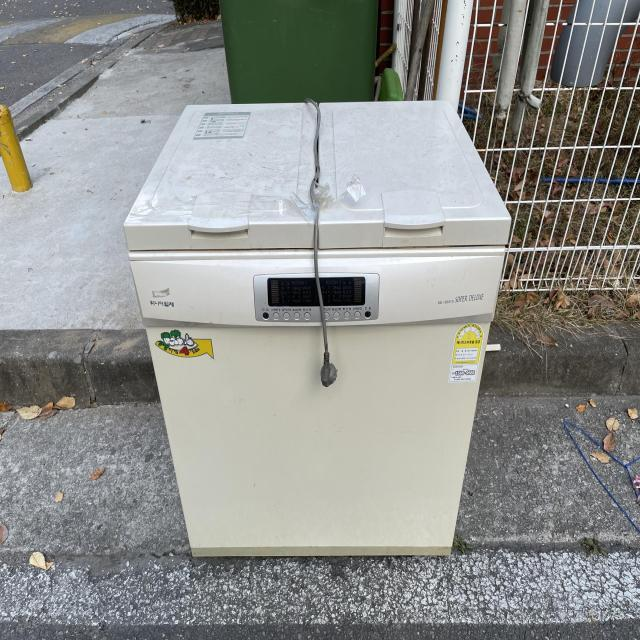refrigerator: (122, 97, 513, 560)
